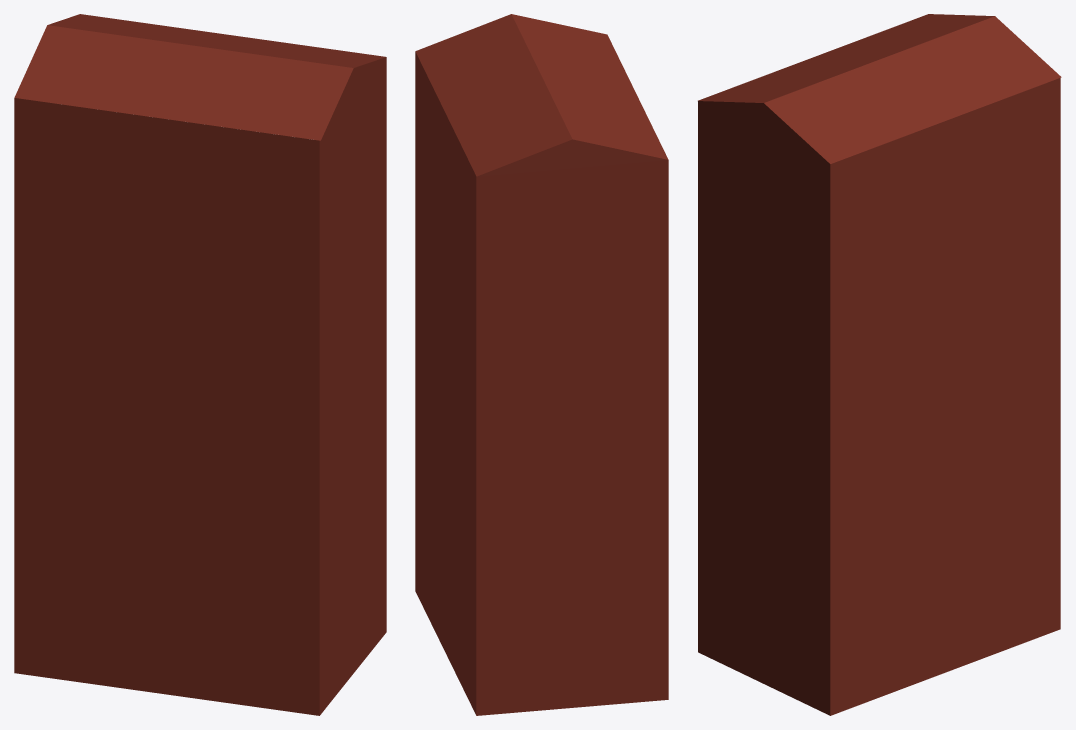
Rendered from near-15-27366-14864.bc485d60.glb.
3 views of the same model, side by side, from view 1: azimuth 30°, elevation 25°; view 2: azimuth 150°, elevation 25°; view 3: azimuth 270°, elevation 25° (orthographic). The views are drawn at different scales.
Size of the model in its own units: 10.62 by 19.15 by 10.88.
